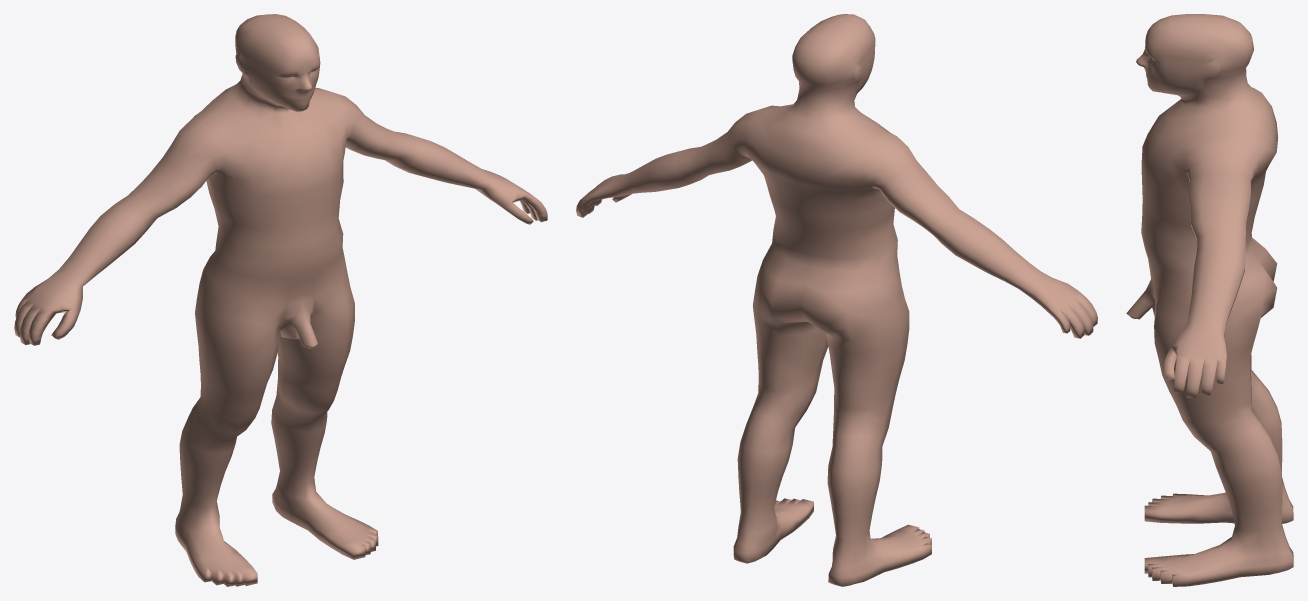
Rendered from CHARACTER.fbx.
The picture shows the model from 3 angles, left to right: view 1: azimuth 30°, elevation 25°; view 2: azimuth 150°, elevation 25°; view 3: azimuth 270°, elevation 25°; orthographic projection. The views are drawn at different scales.
Parts seen in each view (by area): view 1: CharacterMale1:man; view 2: CharacterMale1:man; view 3: CharacterMale1:man.
Boxes of the visible parts, box(x1,y1,x2,y2) form: CharacterMale1:man: box(14, 14, 547, 586); CharacterMale1:man: box(576, 14, 1097, 586); CharacterMale1:man: box(1126, 14, 1293, 586).
Bounding box in the file's own units: 526 × 517 × 148.
